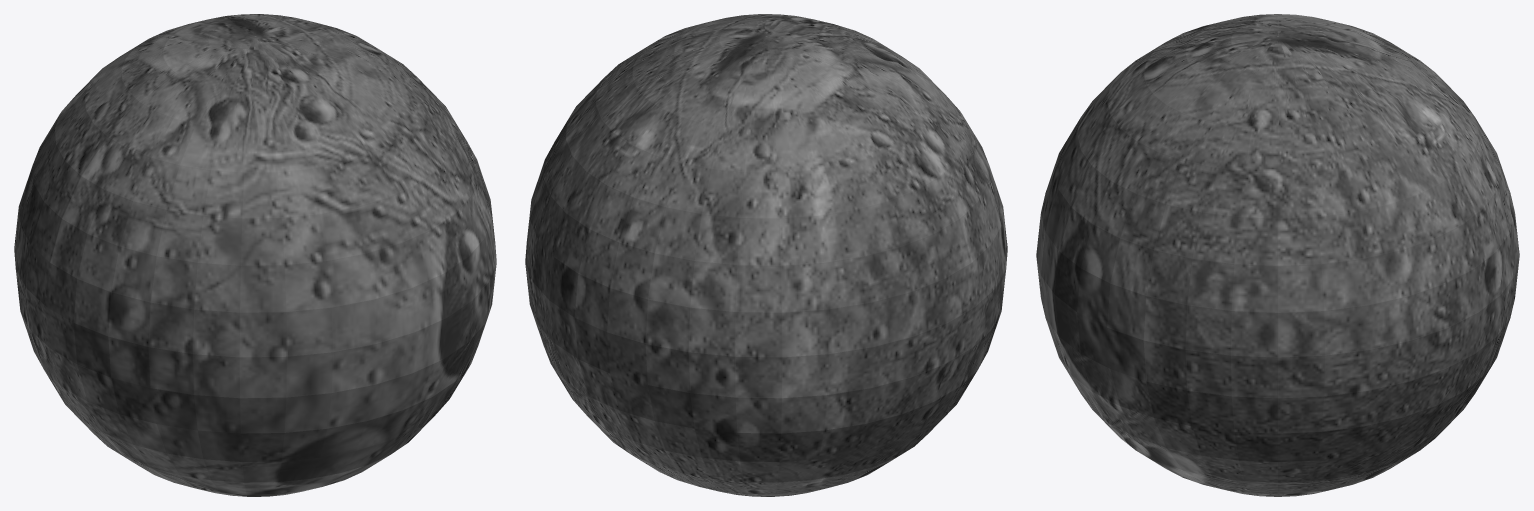
File: Phobos.obj
The picture shows the model from 3 angles, left to right: view 1: azimuth 30°, elevation 25°; view 2: azimuth 150°, elevation 25°; view 3: azimuth 270°, elevation 25°; orthographic projection.
Visible parts, largest first — view 1: Demois_Sphere; view 2: Demois_Sphere; view 3: Demois_Sphere.
Part boxes in pixels (x1,y1,x2,y2): Demois_Sphere: [14, 14, 496, 496]; Demois_Sphere: [525, 14, 1007, 496]; Demois_Sphere: [1036, 14, 1519, 496].
Bounding box in the file's own units: 2 × 2 × 2.
Materials: 1 (1 with a texture image).
